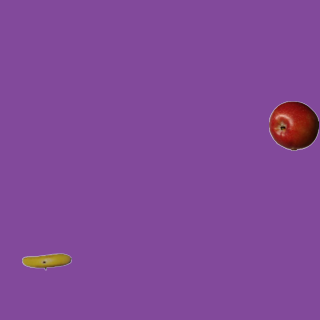Apple Braeburn: (268, 100, 318, 150)
Banana: (21, 236, 71, 286)
